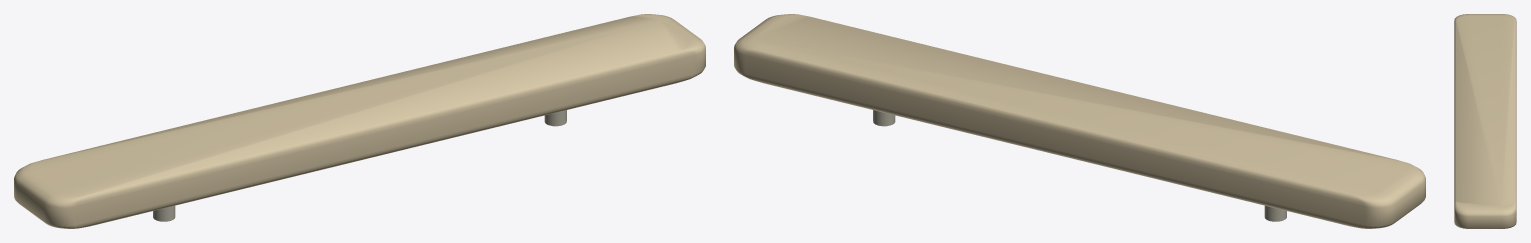
File: Metropolitan.glb
The picture shows the model from 3 angles, left to right: view 1: azimuth 30°, elevation 25°; view 2: azimuth 150°, elevation 25°; view 3: azimuth 270°, elevation 25°; orthographic projection. The views are drawn at different scales.
Visible parts, largest first — view 1: Space key; view 2: Space key; view 3: Space key.
Boxes of the visible parts, <box> form: Space key: <box>14,14,705,228</box>; Space key: <box>734,14,1425,228</box>; Space key: <box>1454,14,1516,228</box>.
Size of the model in its own units: 3.03 by 0.28 by 0.3971.
